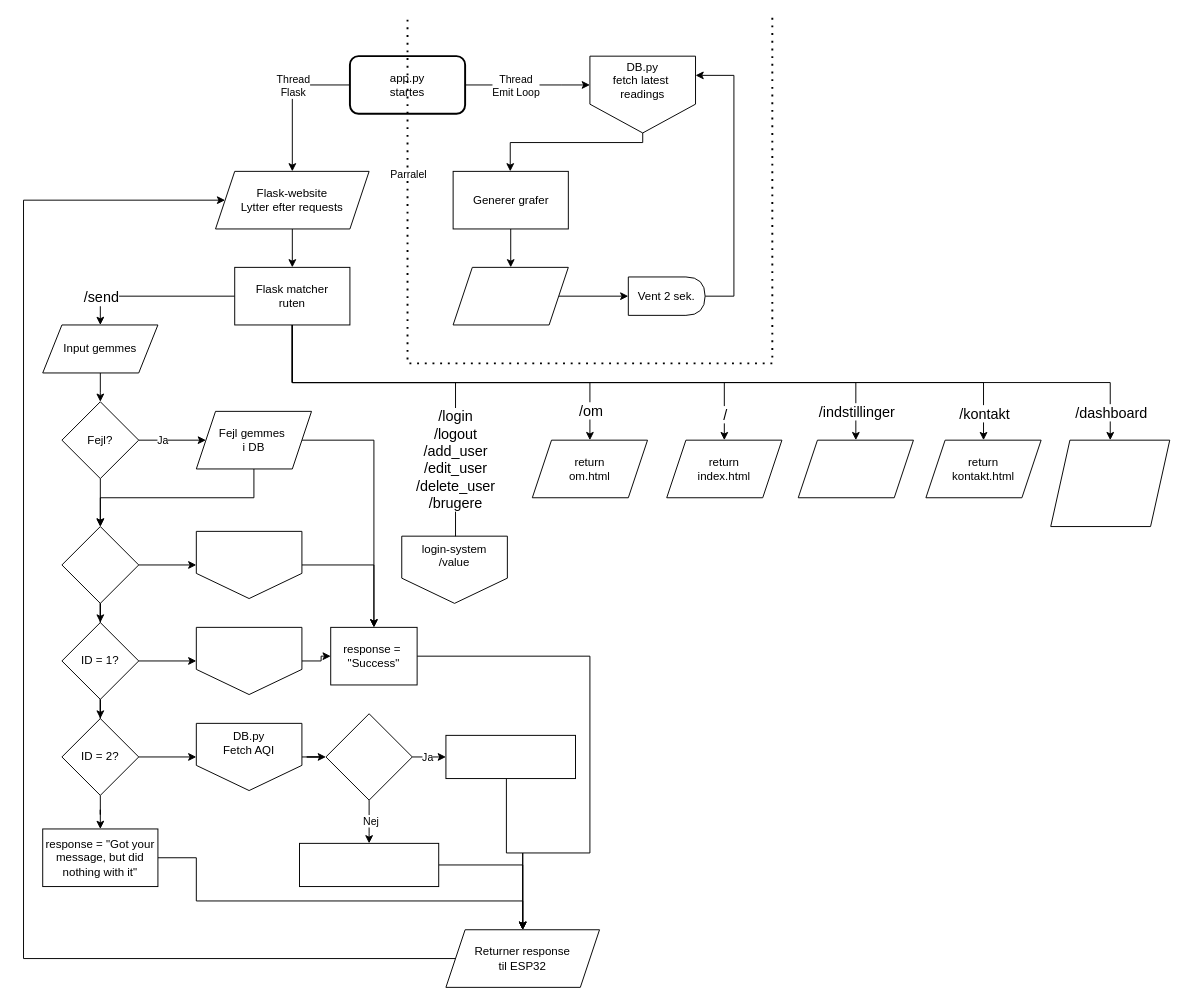
Image size: 1187x1004. Some labels were removed from this diagram. The centre of each missing label's shape, as x and y in pixels:
DB.py create new reading: the point at 248,660
DB.py sessionupdate: the point at 248,564
Emit via SocketIO: the point at 510,295
Er AQI højere end 2: the point at 368,756
ID = 0?: the point at 100,564
response = motor = 0: the point at 369,864
response = motor = 1: the point at 510,756
return dashboard.html Indeholder Socket IO: the point at 1110,483
return indstillinger.html: the point at 855,468
